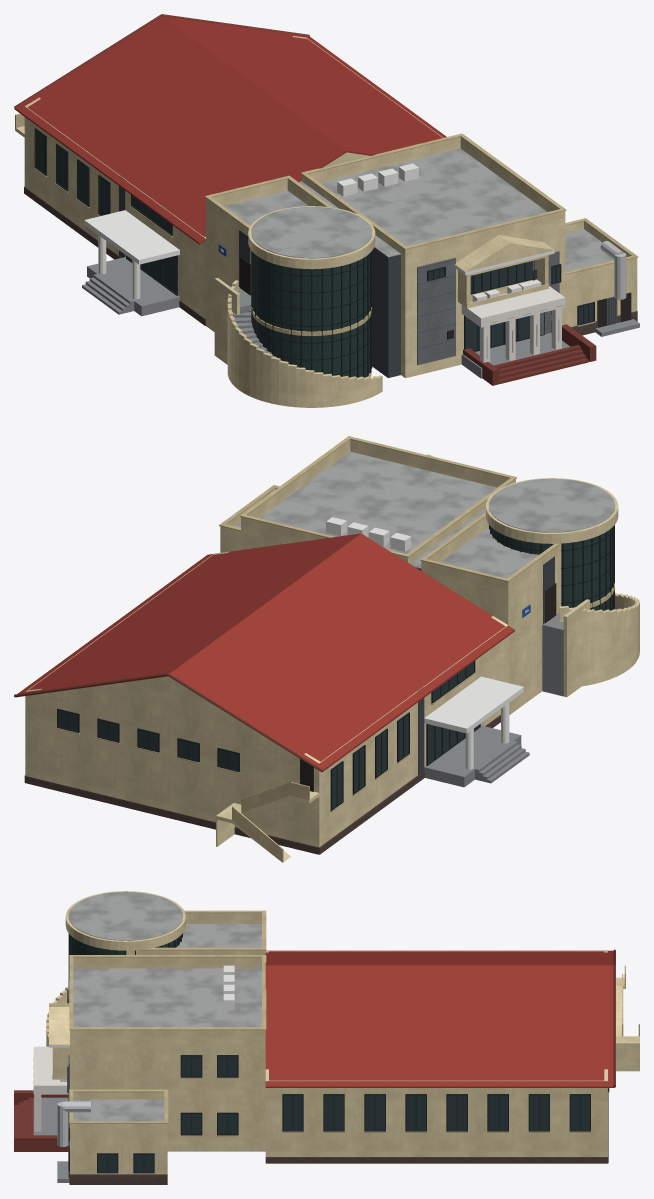
Rendered from NHA_AN.fbx.
The picture shows the model from 3 angles, top to bottom: view 1: azimuth 30°, elevation 25°; view 2: azimuth 150°, elevation 25°; view 3: azimuth 270°, elevation 25°; orthographic projection. The views are drawn at different scales.
Parts seen in each view (by area): view 1: NHA_AN; view 2: NHA_AN; view 3: NHA_AN.
Part boxes in pixels (left/top/right/bottom): NHA_AN: left=14, top=14, right=639, bottom=407; NHA_AN: left=14, top=436, right=639, bottom=862; NHA_AN: left=14, top=891, right=639, bottom=1184.
Size of what is drawn, in the model's own units: 29.92 by 10.59 by 44.8.
Materials: 21 (6 with a texture image).
